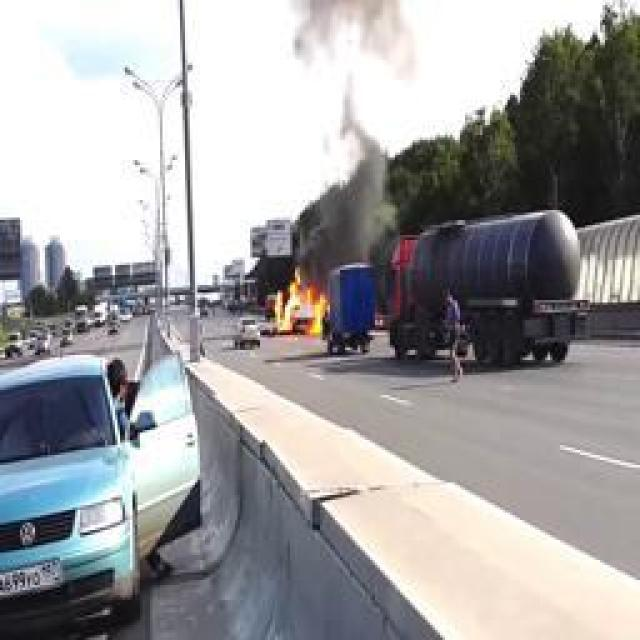Fire: (274, 271, 328, 334)
